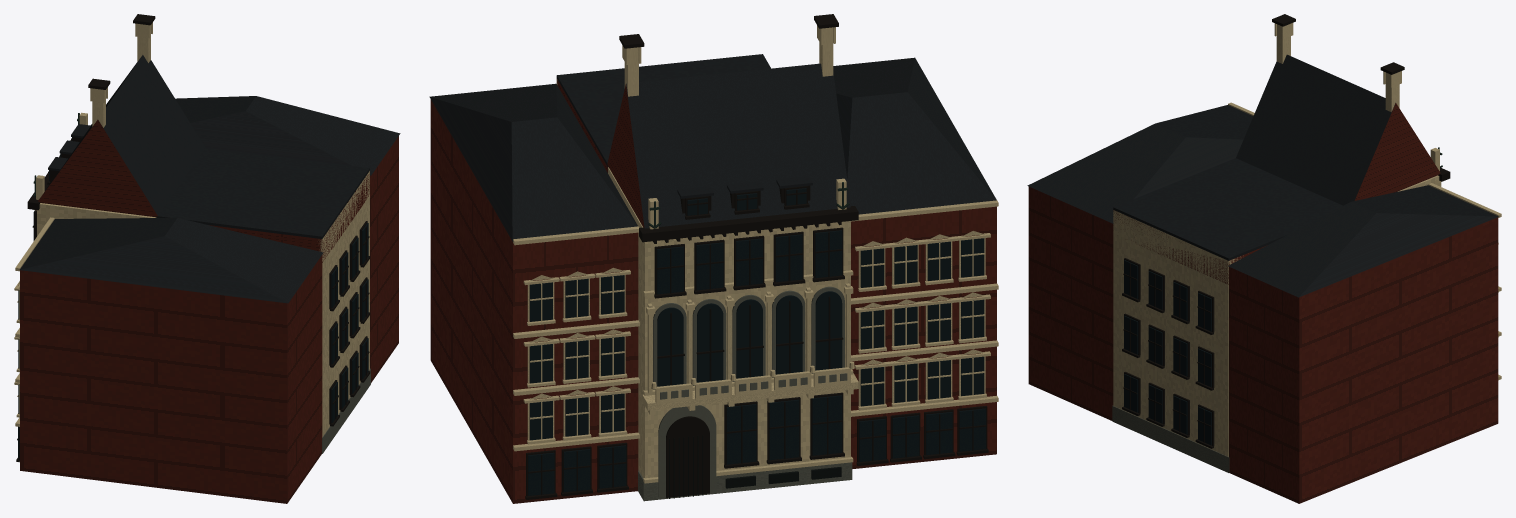
3 renders of one model, left to right at view 1: azimuth 30°, elevation 25°; view 2: azimuth 150°, elevation 25°; view 3: azimuth 270°, elevation 25°, orthographic. The views are drawn at different scales.
Visible parts, largest first — view 1: van-drielkantoor-3, van-drielkantoor-2, van-drielkantoor-0, van-drielkantoor-4, van-drielkantoor-6, van-drielkantoor-1; view 2: van-drielkantoor-2, van-drielkantoor-3, van-drielkantoor-6, van-drielkantoor-0, van-drielkantoor-4, van-drielkantoor-1, van-drielkantoor-5; view 3: van-drielkantoor-3, van-drielkantoor-2, van-drielkantoor-0, van-drielkantoor-6, van-drielkantoor-4, van-drielkantoor-1.
Part boxes in pixels (x1,y1,x2,y2): van-drielkantoor-3: (20, 119, 398, 503); van-drielkantoor-2: (19, 55, 400, 303); van-drielkantoor-0: (14, 22, 369, 436); van-drielkantoor-4: (16, 14, 370, 462); van-drielkantoor-6: (18, 137, 368, 458); van-drielkantoor-1: (322, 368, 370, 453); van-drielkantoor-2: (429, 54, 996, 241); van-drielkantoor-3: (430, 78, 996, 503); van-drielkantoor-6: (528, 188, 985, 495); van-drielkantoor-0: (513, 25, 998, 483); van-drielkantoor-4: (525, 14, 988, 499); van-drielkantoor-1: (638, 286, 852, 501); van-drielkantoor-5: (669, 435, 841, 498); van-drielkantoor-3: (1028, 103, 1498, 503); van-drielkantoor-2: (1027, 54, 1499, 297); van-drielkantoor-0: (1113, 23, 1501, 456); van-drielkantoor-6: (1124, 260, 1211, 445); van-drielkantoor-4: (1122, 14, 1450, 448); van-drielkantoor-1: (1112, 405, 1229, 472).
Size of the model in its own units: 35.81 by 27.81 by 35.53.
Materials: 8 (8 with a texture image).
